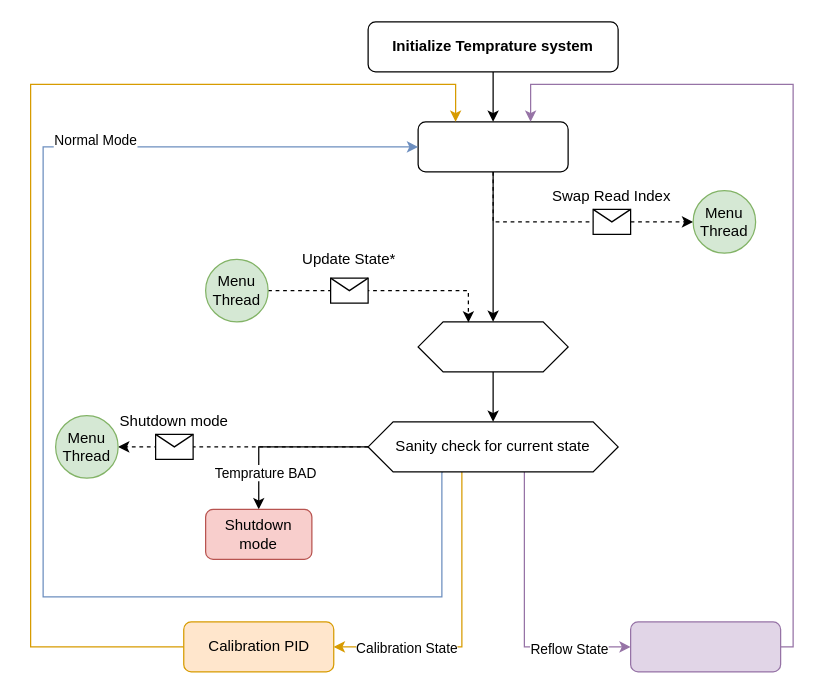
Image size: 825x694. Some labels were removed from this diagram. Here are the shapes that lost their labels. From the top down, the box of each, then its label:
(417, 121, 568, 172): Read temps
(417, 321, 568, 372): Check/Get State
(629, 621, 781, 672): Reflow PID
